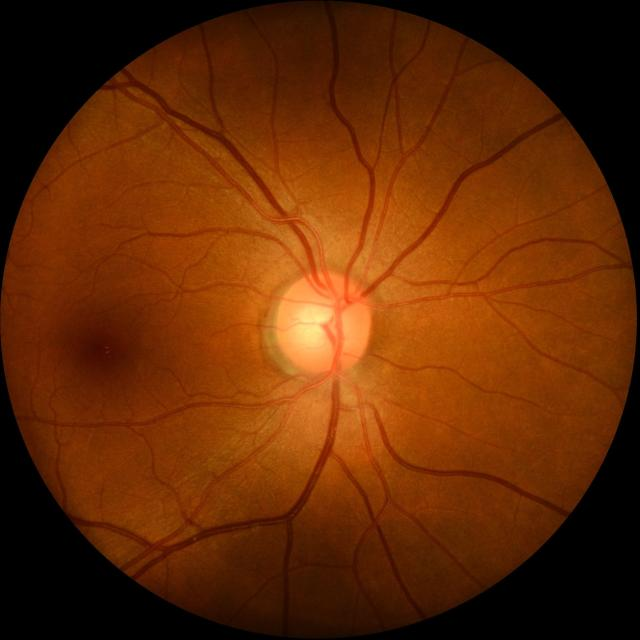OC: (296, 300, 341, 346)
OD: (276, 270, 370, 376)
